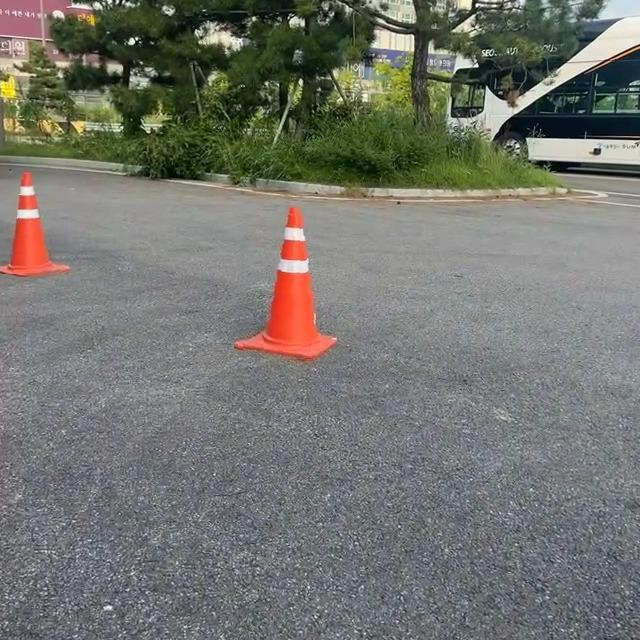fallen_object: (152, 183, 456, 434), (0, 149, 82, 292)
